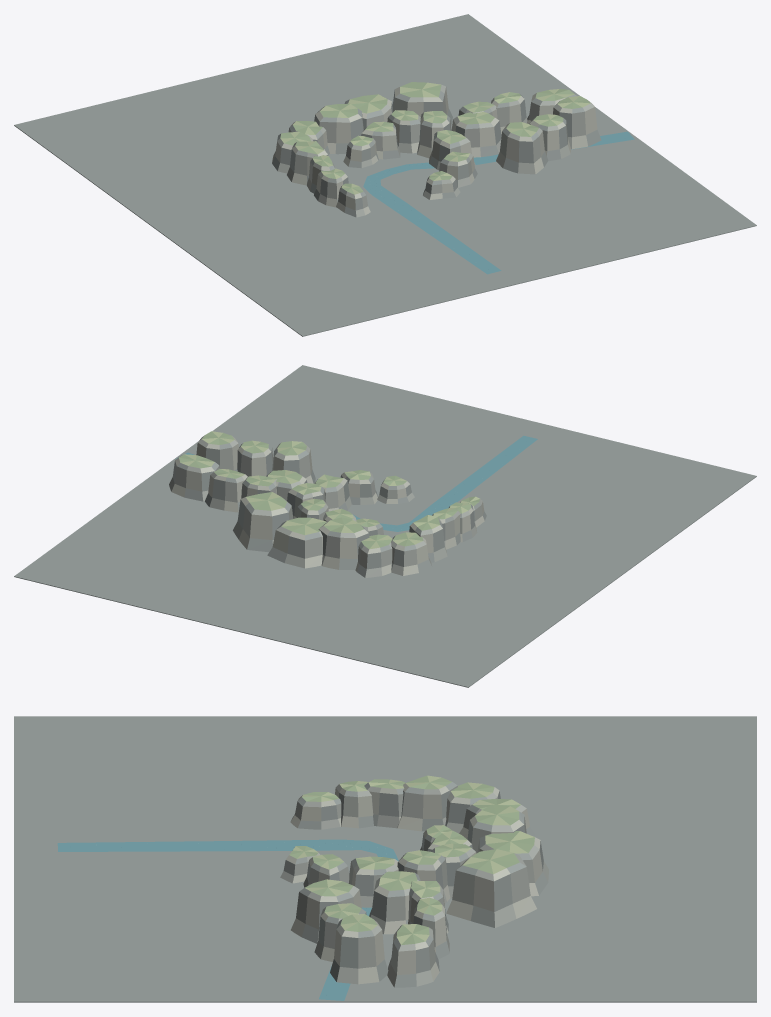
Rendered from WindcutRavine.glb.
3 views of the same model, one above another, from view 1: azimuth 30°, elevation 25°; view 2: azimuth 150°, elevation 25°; view 3: azimuth 270°, elevation 25° (orthographic). The views are drawn at different scales.
Visible parts, largest first — view 1: WindcutRavine; view 2: WindcutRavine; view 3: WindcutRavine.
Boxes of the visible parts, bbox=[...] form: WindcutRavine: bbox=[14, 14, 756, 336]; WindcutRavine: bbox=[14, 365, 756, 687]; WindcutRavine: bbox=[14, 716, 756, 1002].
Bounding box in the file's own units: 200 × 16.03 × 220.
